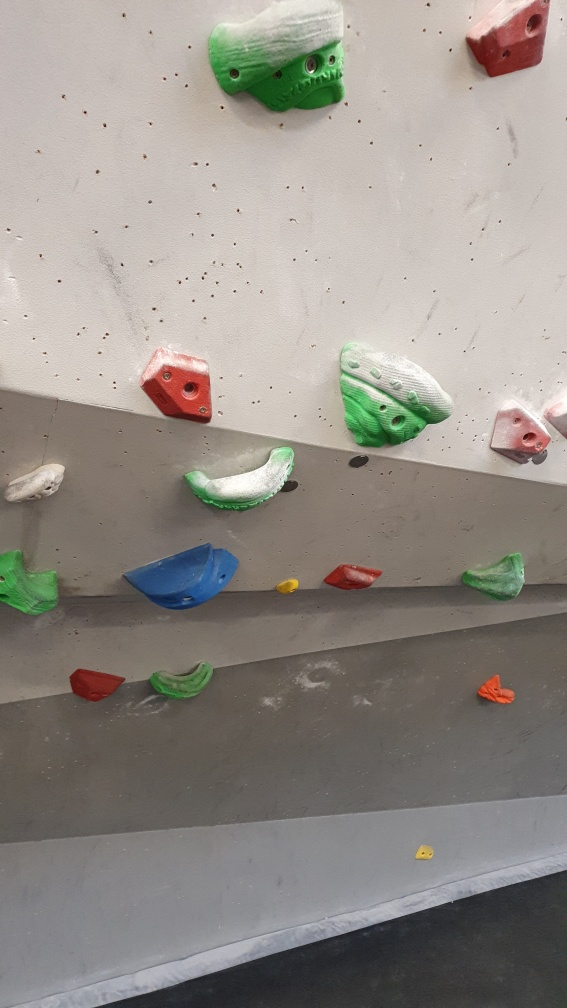Crimp: (463, 1, 553, 80), (141, 343, 215, 423), (491, 411, 550, 465), (323, 559, 383, 596)
Hand Start: (529, 445, 550, 468), (345, 453, 369, 473), (283, 478, 298, 499)
Jug: (205, 1, 351, 114), (337, 341, 454, 447), (182, 444, 298, 512), (1, 553, 61, 619), (460, 555, 530, 602), (1, 460, 70, 505), (151, 664, 216, 700), (479, 673, 518, 707)
Pinch: (122, 542, 244, 610)
